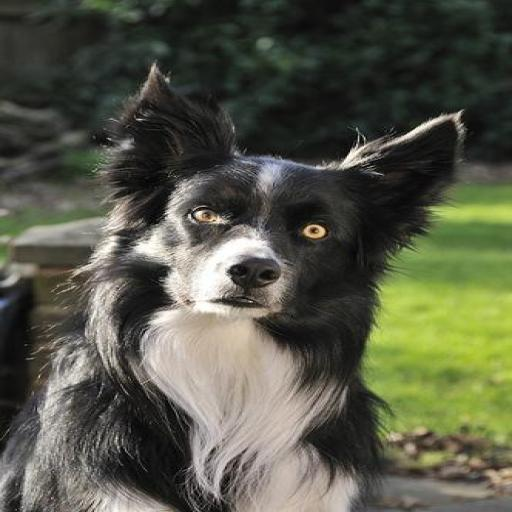dog_face: (87, 87, 462, 326)
